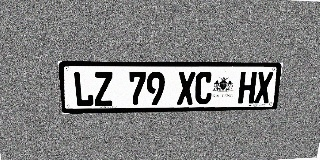7: (128, 72, 146, 106)
9: (147, 72, 165, 105)
C: (194, 72, 213, 105)
H: (238, 72, 257, 104)
L: (73, 72, 94, 107)
X: (177, 72, 195, 105), (254, 72, 273, 103)
Z: (93, 72, 113, 106)
